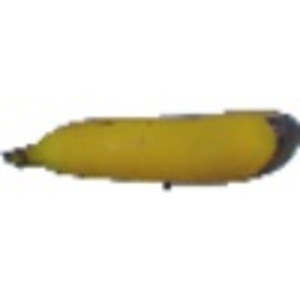banana: (1, 105, 298, 197)
